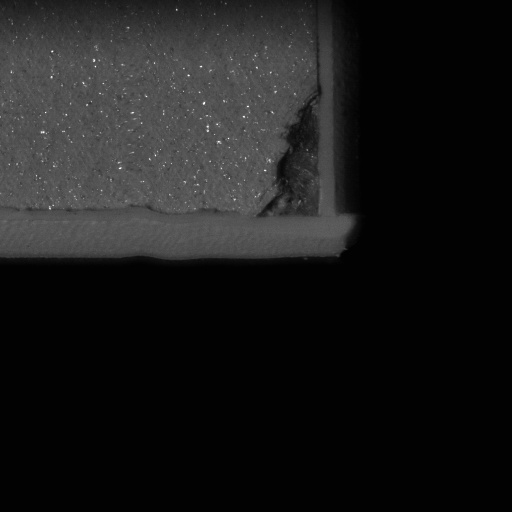bengque: (250, 93, 325, 221)
